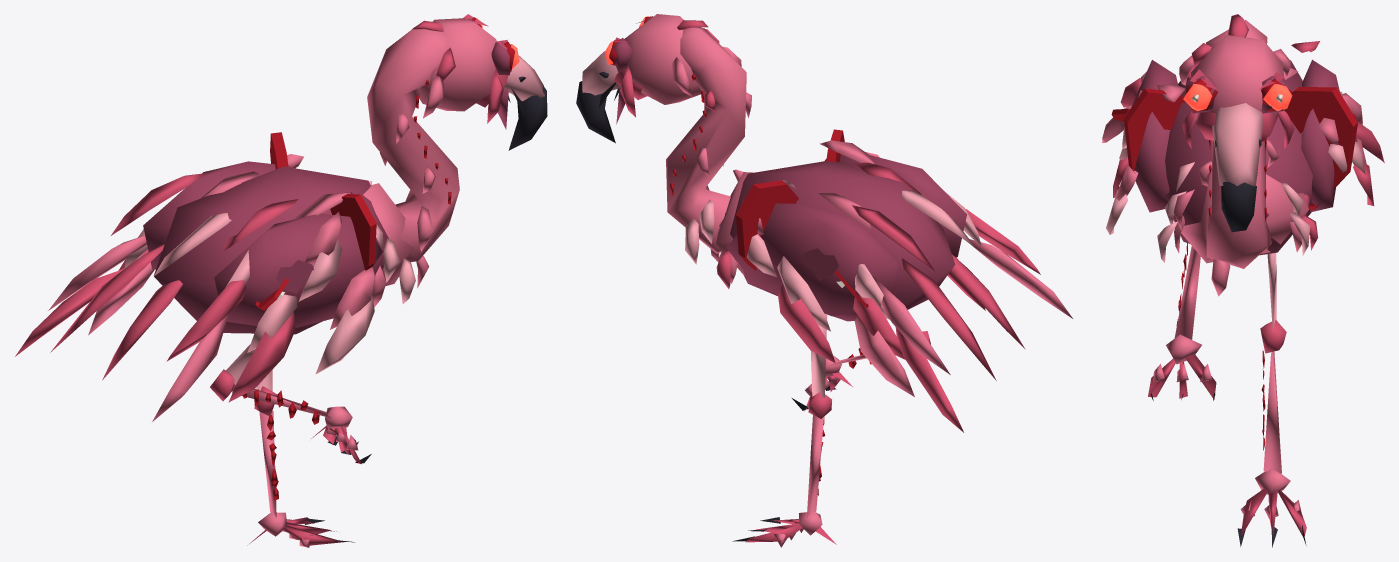
The model's file is inf.flamingo.lod2.glb.
3 renders of one model, left to right at view 1: azimuth 30°, elevation 25°; view 2: azimuth 150°, elevation 25°; view 3: azimuth 270°, elevation 25°, orthographic. The views are drawn at different scales.
Visible parts, largest first — view 1: body, neck, wingR, head, foreArmR, handL, handR, tail, wingL, stump_armR, footL, shinL (+2 smaller); view 2: body, wingL, neck, head, handL, tail, foreArmL, handR, wingR, stump_armL, shinL, footL (+2 smaller); view 3: head, body, neck, wingL, wingR, stump_armL, shinL, stump_armR, footL, footR, shinR, foreArmR (+4 smaller).
Boxes of the visible parts, x1,y1,x2,y2 form: body: (111, 166, 433, 334); neck: (367, 29, 459, 261); wingR: (214, 212, 382, 328); head: (412, 14, 547, 150); foreArmR: (228, 267, 375, 402); handL: (15, 235, 154, 356); handR: (152, 280, 246, 421); tail: (50, 244, 182, 380); wingL: (124, 154, 303, 269); stump_armR: (330, 193, 376, 270); footL: (247, 512, 354, 547); shinL: (254, 386, 278, 517); body: (685, 140, 976, 321); wingL: (726, 199, 898, 319); neck: (666, 27, 751, 253); head: (576, 14, 741, 143); handL: (853, 276, 963, 432); tail: (902, 254, 1025, 380); foreArmL: (777, 256, 835, 362); handR: (965, 209, 1072, 318); wingR: (824, 152, 981, 257); stump_armL: (735, 180, 798, 270); shinL: (806, 392, 831, 517); footL: (732, 511, 836, 547); head: (1179, 14, 1294, 232); body: (1157, 41, 1319, 296); neck: (1198, 20, 1279, 268); wingL: (1301, 59, 1347, 212); wingR: (1122, 60, 1177, 212); stump_armL: (1285, 86, 1357, 210); shinL: (1260, 319, 1286, 473); stump_armR: (1124, 88, 1185, 205); footL: (1237, 469, 1306, 547); footR: (1148, 334, 1216, 400); shinR: (1174, 243, 1200, 339); foreArmR: (1106, 147, 1138, 234).
Bounding box in the file's own units: 1.55 × 1.6 × 0.7212.
